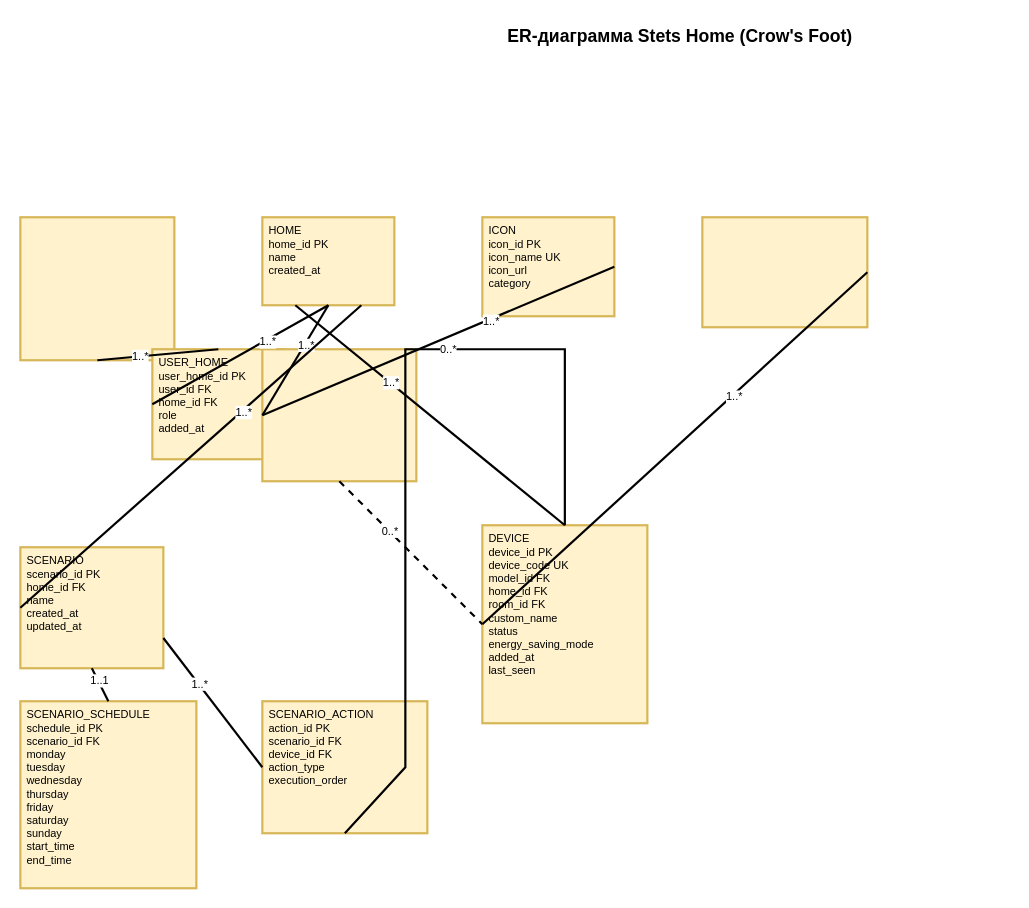
This 1029x908 diagram has some shape labels left out. Each missing label, with the box of its shape:
DEVICE_MODEL model_id PK model_name UK device_type capabilities description: (701, 216, 868, 328)
ROOM room_id PK home_id FK name type icon_id FK created_at: (261, 348, 417, 482)
USER user_id PK email UK password_hash name created_at updated_at: (19, 216, 175, 361)
